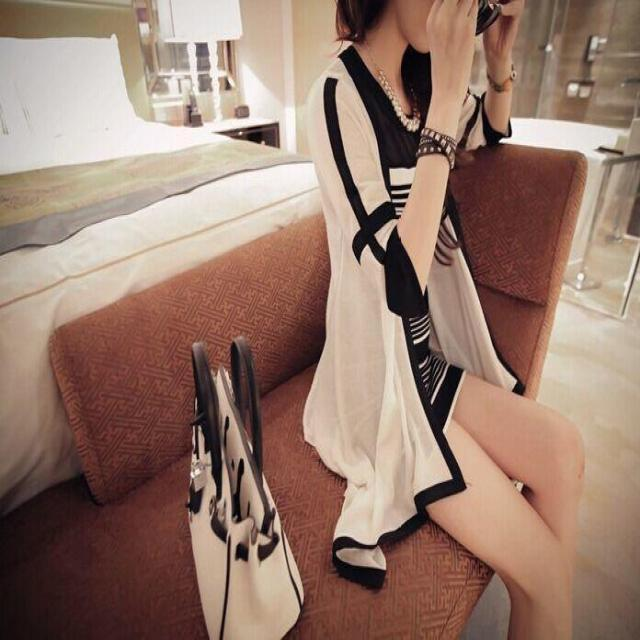long sleeve outwear: (313, 194, 465, 585)
vest dress: (326, 45, 465, 491)
